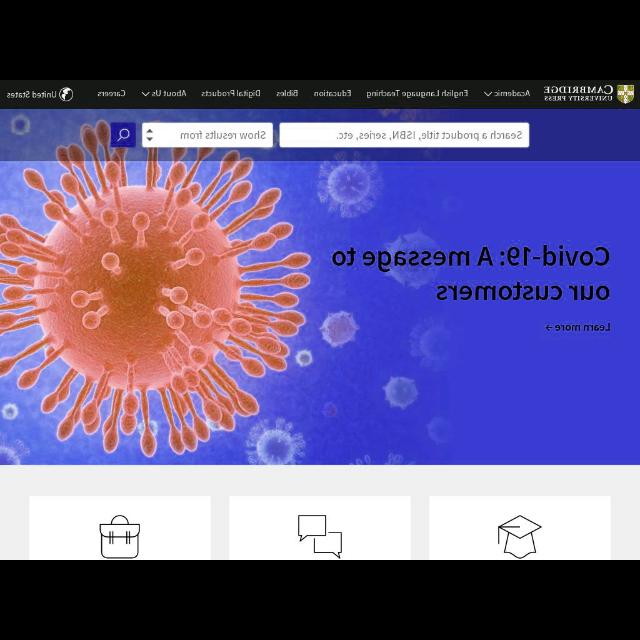backgroundimage: (1, 109, 639, 465)
button: (109, 121, 137, 149)
icon: (59, 86, 76, 102), (116, 128, 130, 144), (144, 126, 154, 144), (544, 322, 554, 334), (140, 90, 150, 98), (483, 90, 492, 98)
image: (1, 468, 636, 560), (540, 82, 638, 106)
input: (278, 122, 530, 148)
spinner: (140, 122, 274, 148), (480, 84, 536, 105), (139, 87, 189, 101)
text: (331, 244, 611, 302), (336, 130, 522, 142), (366, 87, 470, 101), (180, 130, 268, 142), (542, 320, 612, 334), (200, 90, 262, 100), (6, 88, 56, 100), (494, 88, 532, 100), (313, 90, 353, 98), (151, 90, 187, 98), (95, 90, 127, 98), (274, 89, 300, 98)
toolbar: (1, 80, 640, 108)
